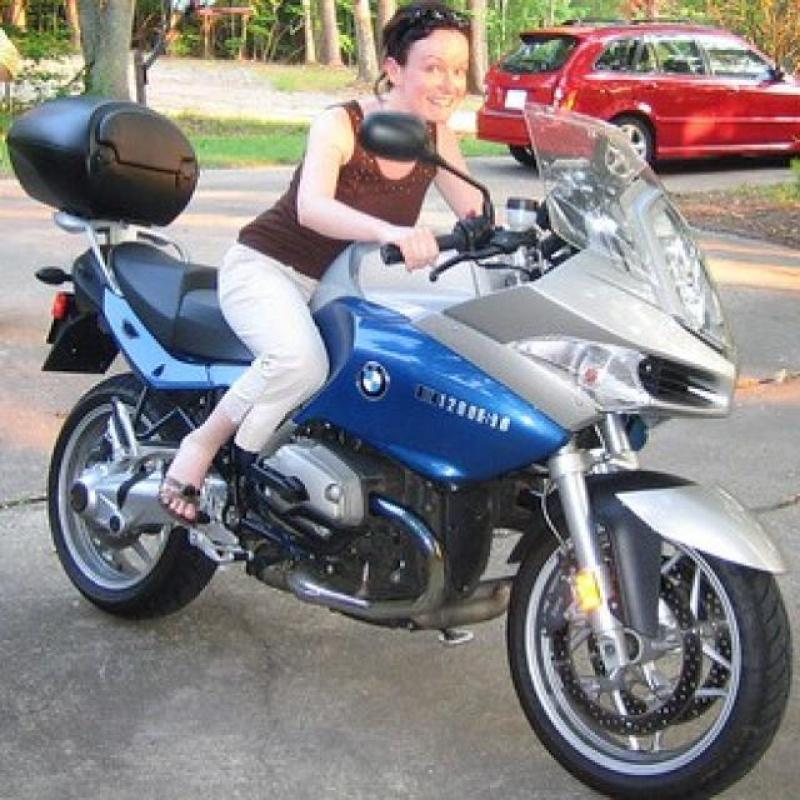nohelmet: (377, 1, 476, 128)
